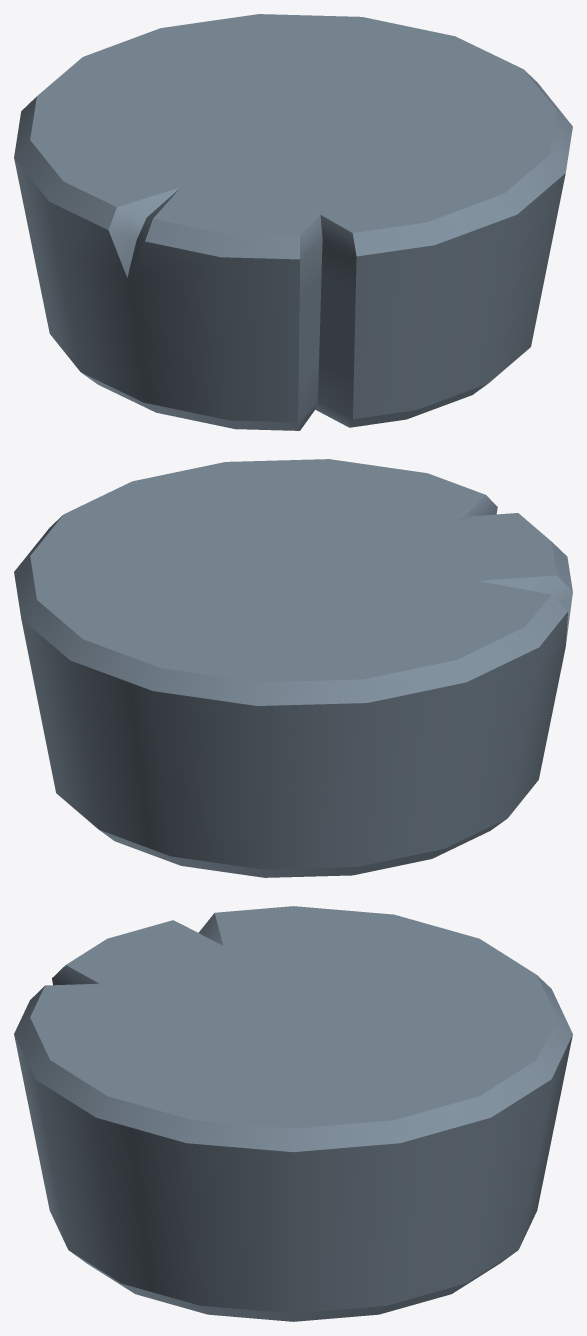
The model's file is Blue1.fbx.
The picture shows the model from 3 angles, top to bottom: view 1: azimuth 30°, elevation 25°; view 2: azimuth 150°, elevation 25°; view 3: azimuth 270°, elevation 25°; orthographic projection.
Parts seen in each view (by area): view 1: circle; view 2: circle; view 3: circle.
Boxes of the visible parts, x1,y1,x2,y2 form: circle: (14,14,572,430); circle: (14,459,572,877); circle: (14,906,572,1321).
Size of the model in its own units: 1.98 by 0.8207 by 1.98.
